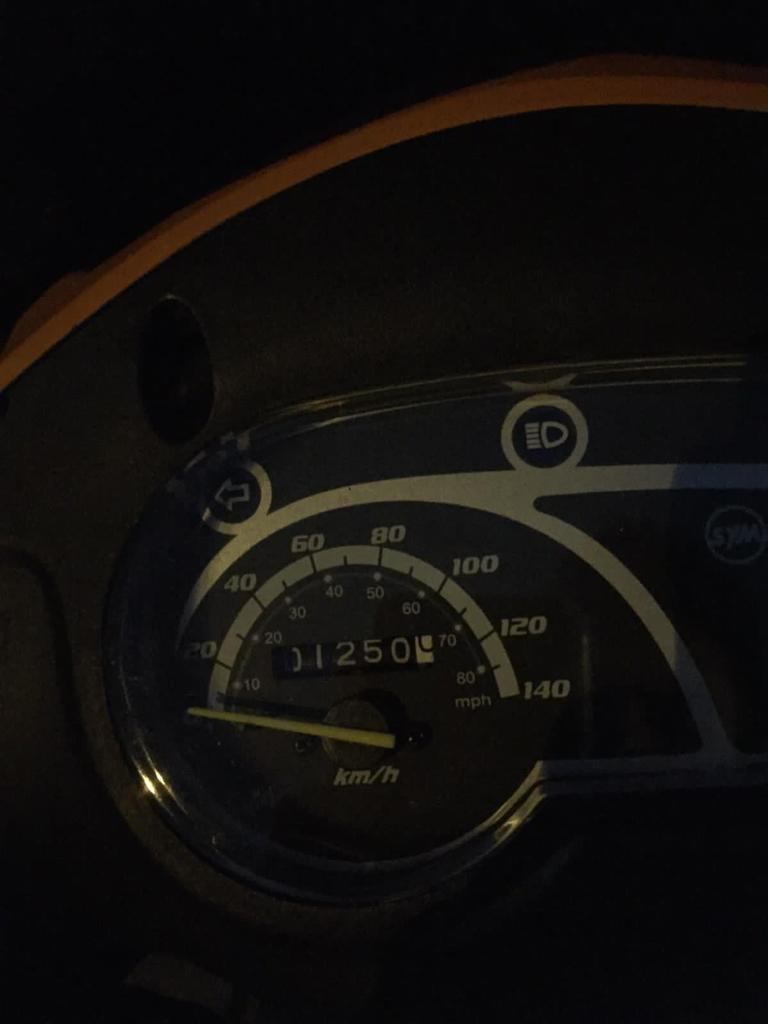0: (390, 635, 410, 668), (285, 645, 306, 672), (416, 631, 435, 657), (273, 632, 283, 643)
1: (313, 639, 326, 672)
2: (335, 638, 357, 668)
5: (362, 636, 383, 664)
odometer: (273, 631, 439, 678)
